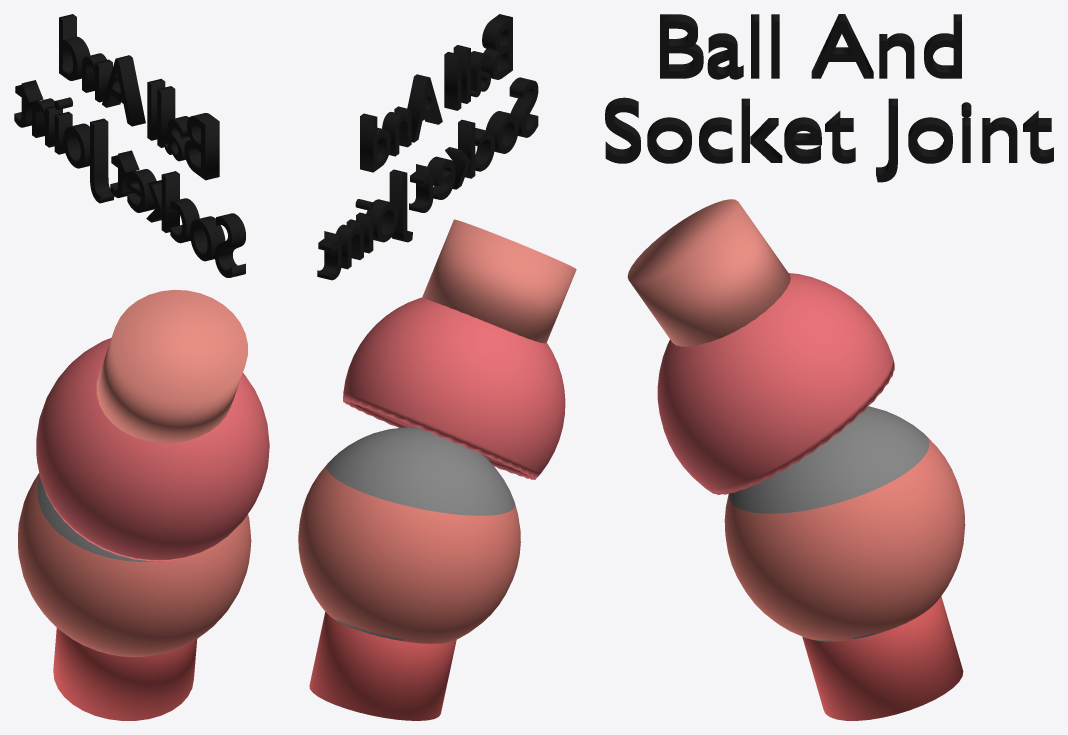
File: Ball And Socket Joint.gltf
3 renders of one model, left to right at view 1: azimuth 30°, elevation 25°; view 2: azimuth 150°, elevation 25°; view 3: azimuth 270°, elevation 25°, orthographic. The views are drawn at different scales.
Parts seen in each view (by area): view 1: Sphere.001, Sphere, Text, Cylinder.001, Cylinder; view 2: Sphere, Sphere.001, Text, Cylinder.001, Cylinder; view 3: Sphere, Sphere.001, Text, Cylinder.001, Cylinder.
Part boxes in pixels (left/top/right/bottom): Sphere.001: left=36, top=338, right=269, bottom=561; Sphere: left=18, top=473, right=251, bottom=656; Text: left=14, top=14, right=245, bottom=277; Cylinder.001: left=96, top=289, right=247, bottom=442; Cylinder: left=53, top=628, right=197, bottom=720; Sphere: left=298, top=427, right=520, bottom=643; Sphere.001: left=343, top=297, right=565, bottom=479; Text: left=317, top=14, right=538, bottom=280; Cylinder.001: left=422, top=219, right=576, bottom=343; Cylinder: left=309, top=612, right=456, bottom=720; Sphere: left=724, top=406, right=965, bottom=641; Sphere.001: left=657, top=273, right=894, bottom=494; Text: left=605, top=14, right=1053, bottom=182; Cylinder.001: left=627, top=199, right=790, bottom=346; Cylinder: left=802, top=596, right=963, bottom=720.
Size of the model in its own units: 1.23 by 3.58 by 2.14.
